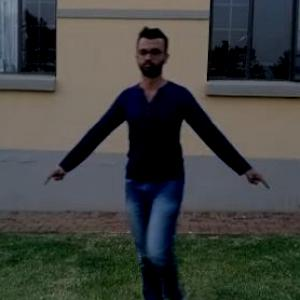land: (69, 42, 243, 299)
